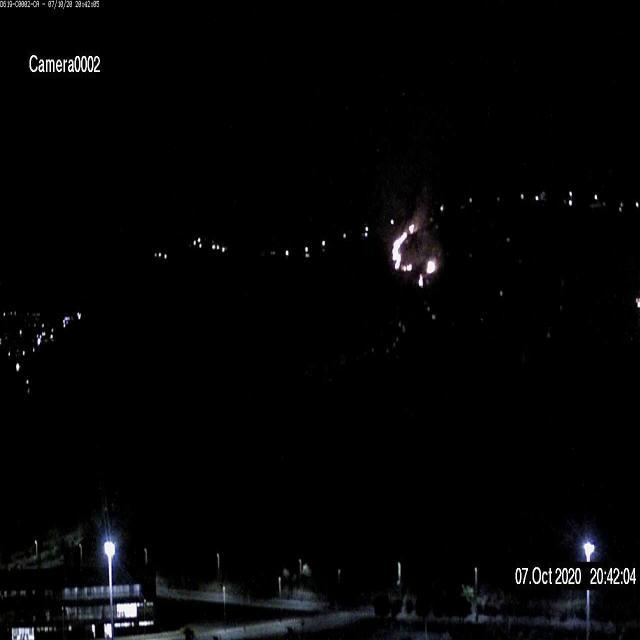Fire: (392, 223, 434, 282)
